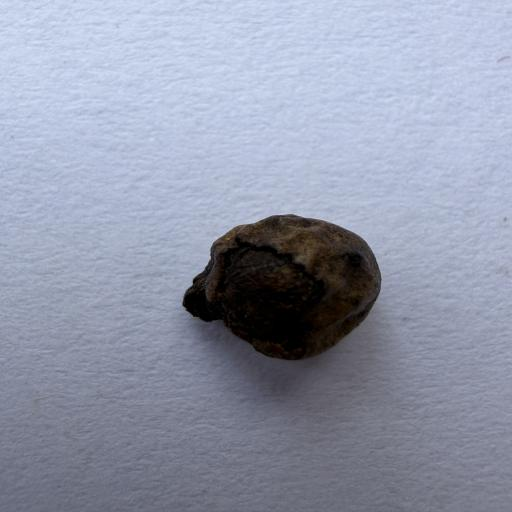Black_pepper: (181, 190, 397, 370)
